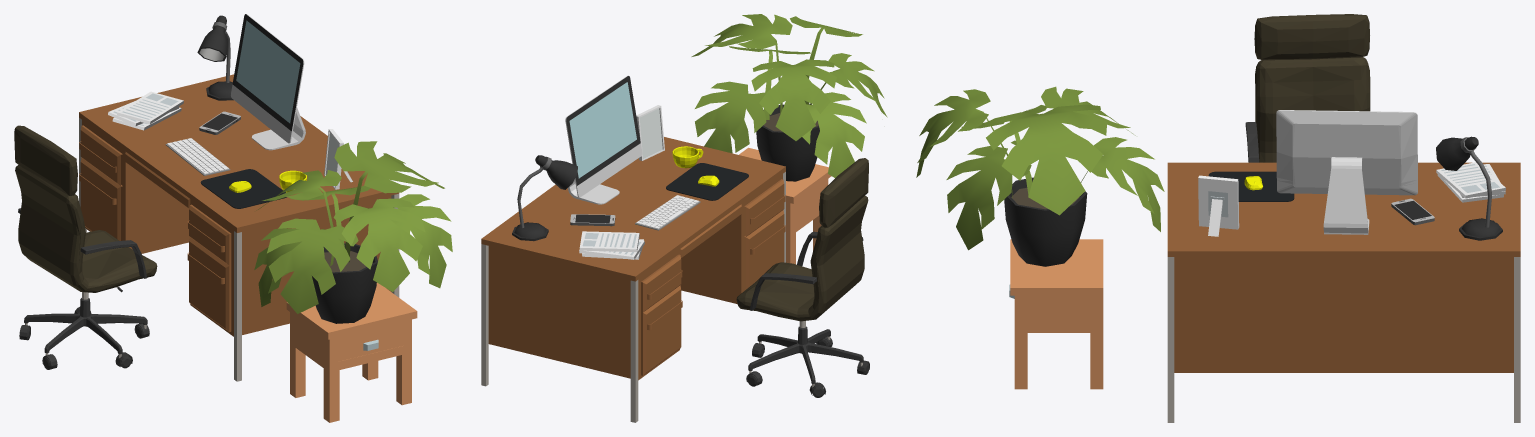
Rendered from computerdesk.glb.
3 views of the same model, side by side, from view 1: azimuth 30°, elevation 25°; view 2: azimuth 150°, elevation 25°; view 3: azimuth 270°, elevation 25° (orthographic). The views are drawn at different scales.
Parts seen in each view (by area): view 1: Node.003, Houseplant-bfLOqIV5uP, Chair.003, Cabinet Bed Drawer Tabl, Monitor.001|iMac|Dupli|, Mousepad, Paper, Light Desk.001, Blank Picture Frame|Node.007|Dupli|, Phone; view 2: Node.003, Houseplant-bfLOqIV5uP, Chair.003, Monitor.001|iMac|Dupli|, Cabinet Bed Drawer Tabl, Mousepad, Light Desk.001, Paper, Blank Picture Frame|Node.007|Dupli|, Cup.001|Cup|Dupli|, Phone; view 3: Node.003, Houseplant-bfLOqIV5uP, Monitor.001|iMac|Dupli|, Chair.003, Cabinet Bed Drawer Tabl, Blank Picture Frame|Node.007|Dupli|, Light Desk.001, Paper, Mousepad, Phone.
Boxes of the visible parts, x1=… form: Node.003: x1=79, y1=74, x2=399, y2=381; Houseplant-bfLOqIV5uP: x1=254, y1=141, x2=452, y2=323; Chair.003: x1=14, y1=125, x2=157, y2=369; Cabinet Bed Drawer Tabl: x1=286, y1=283, x2=417, y2=422; Monitor.001|iMac|Dupli|: x1=231, y1=14, x2=305, y2=150; Mousepad: x1=200, y1=169, x2=286, y2=208; Paper: x1=108, y1=91, x2=183, y2=130; Light Desk.001: x1=197, y1=15, x2=233, y2=100; Blank Picture Frame|Node.007|Dupli|: x1=324, y1=129, x2=352, y2=189; Phone: x1=199, y1=111, x2=240, y2=134; Node.003: x1=481, y1=137, x2=785, y2=422; Houseplant-bfLOqIV5uP: x1=691, y1=14, x2=887, y2=181; Chair.003: x1=736, y1=158, x2=869, y2=397; Monitor.001|iMac|Dupli|: x1=565, y1=75, x2=642, y2=204; Cabinet Bed Drawer Tabl: x1=739, y1=147, x2=831, y2=264; Mousepad: x1=666, y1=163, x2=748, y2=200; Light Desk.001: x1=512, y1=155, x2=577, y2=241; Paper: x1=579, y1=231, x2=644, y2=259; Blank Picture Frame|Node.007|Dupli|: x1=636, y1=105, x2=664, y2=160; Cup.001|Cup|Dupli|: x1=672, y1=146, x2=703, y2=168; Phone: x1=570, y1=214, x2=615, y2=226; Node.003: x1=1167, y1=162, x2=1520, y2=422; Houseplant-bfLOqIV5uP: x1=916, y1=86, x2=1164, y2=266; Monitor.001|iMac|Dupli|: x1=1276, y1=110, x2=1417, y2=234; Chair.003: x1=1245, y1=14, x2=1370, y2=162; Cabinet Bed Drawer Tabl: x1=1009, y1=239, x2=1103, y2=389; Blank Picture Frame|Node.007|Dupli|: x1=1198, y1=175, x2=1239, y2=236; Light Desk.001: x1=1436, y1=136, x2=1502, y2=240; Paper: x1=1436, y1=162, x2=1505, y2=202; Mousepad: x1=1208, y1=171, x2=1294, y2=201; Phone: x1=1391, y1=198, x2=1434, y2=225.
Bounding box in the file's own units: 2.76 × 2.26 × 4.3.
Materials: 32 (3 with a texture image).
